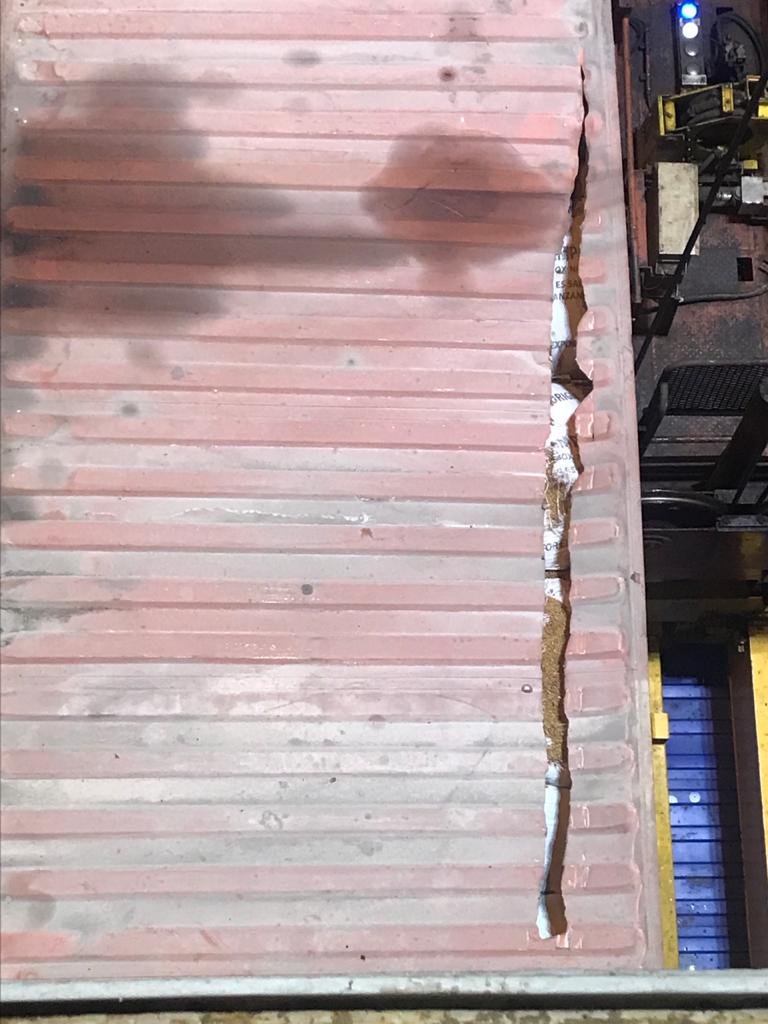severe: (499, 57, 592, 953)
